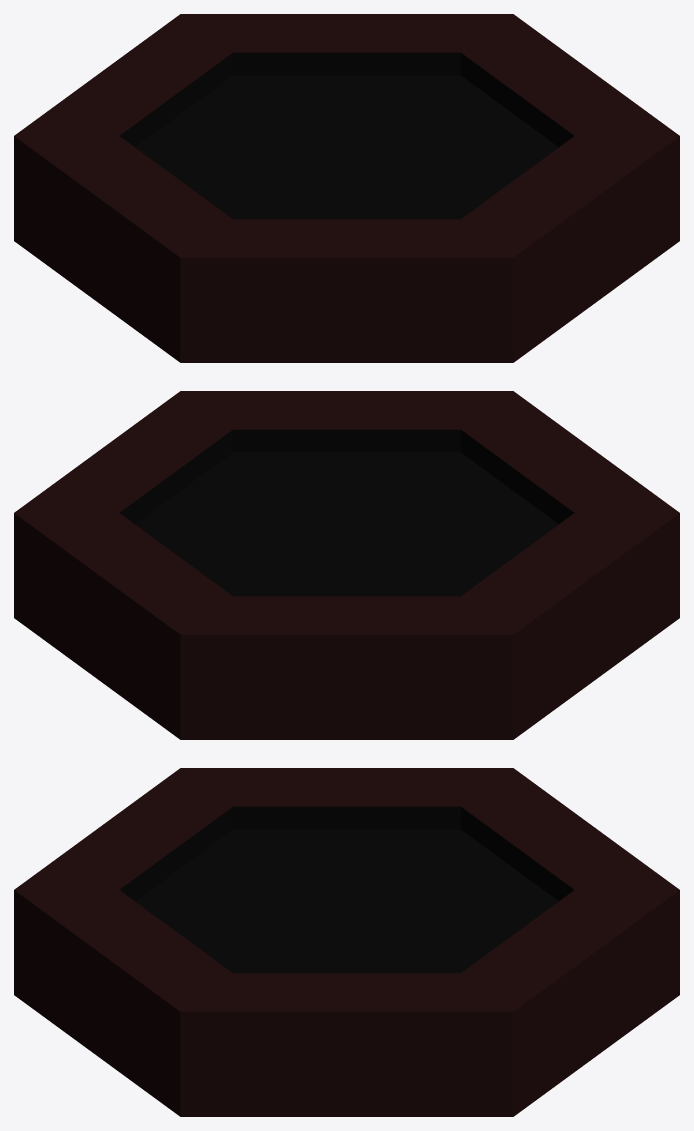
File: Spears_Base.fbx
3 renders of one model, top to bottom at view 1: azimuth 30°, elevation 25°; view 2: azimuth 150°, elevation 25°; view 3: azimuth 270°, elevation 25°, orthographic.
Visible parts, largest first — view 1: Spears_Base; view 2: Spears_Base; view 3: Spears_Base.
Boxes of the visible parts, left/top/right/bottom form: Spears_Base: left=14, top=14, right=679, bottom=362; Spears_Base: left=14, top=391, right=679, bottom=739; Spears_Base: left=14, top=768, right=679, bottom=1116.
Bounding box in the file's own units: 0.7275 × 0.1464 × 0.8401.
